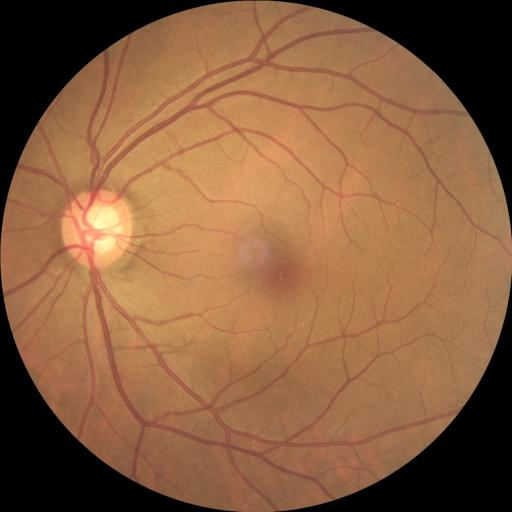Optic Cup: (82, 205, 122, 253)
Optic Disc: (62, 190, 132, 270)
